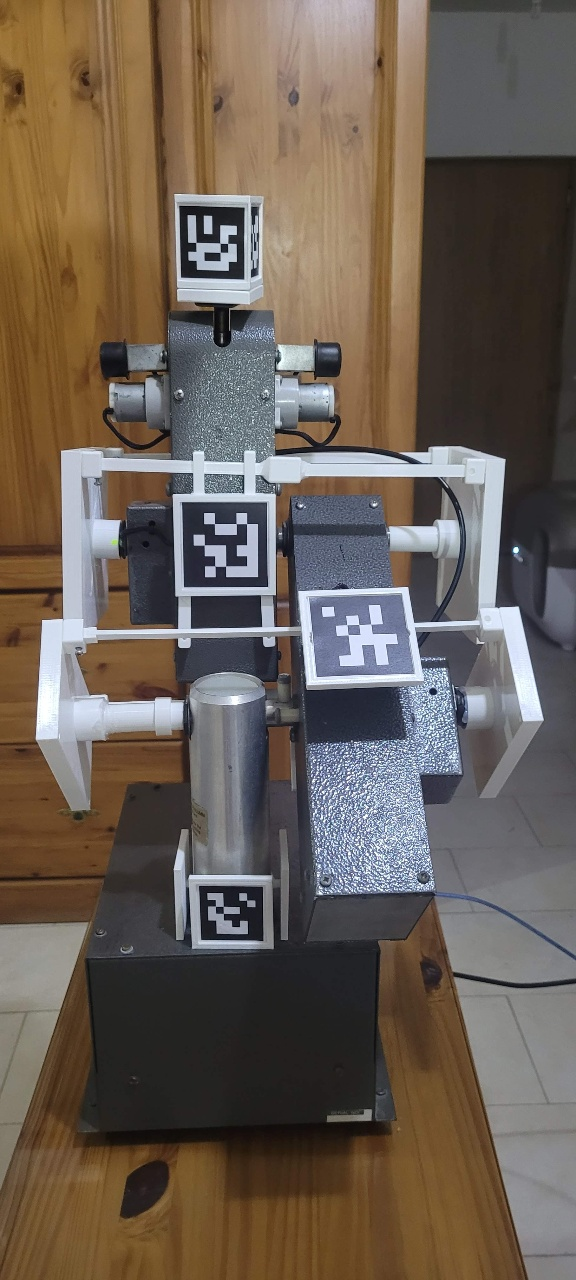Robot: (34, 193, 545, 952)
